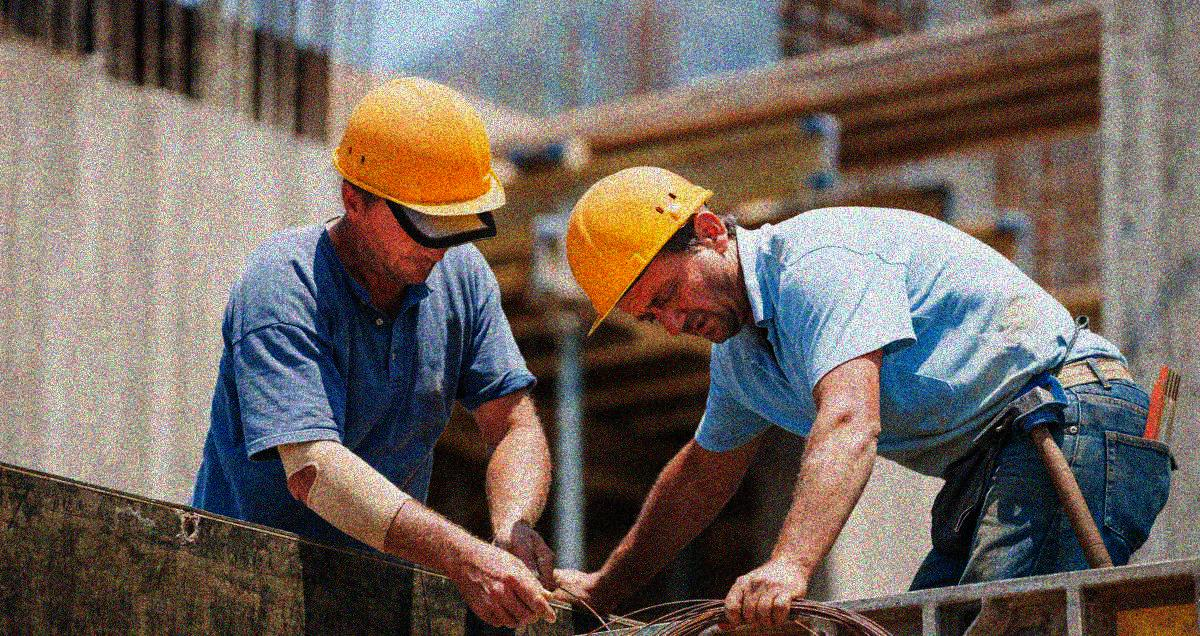helmet: (333, 76, 503, 294), (564, 163, 734, 345)
